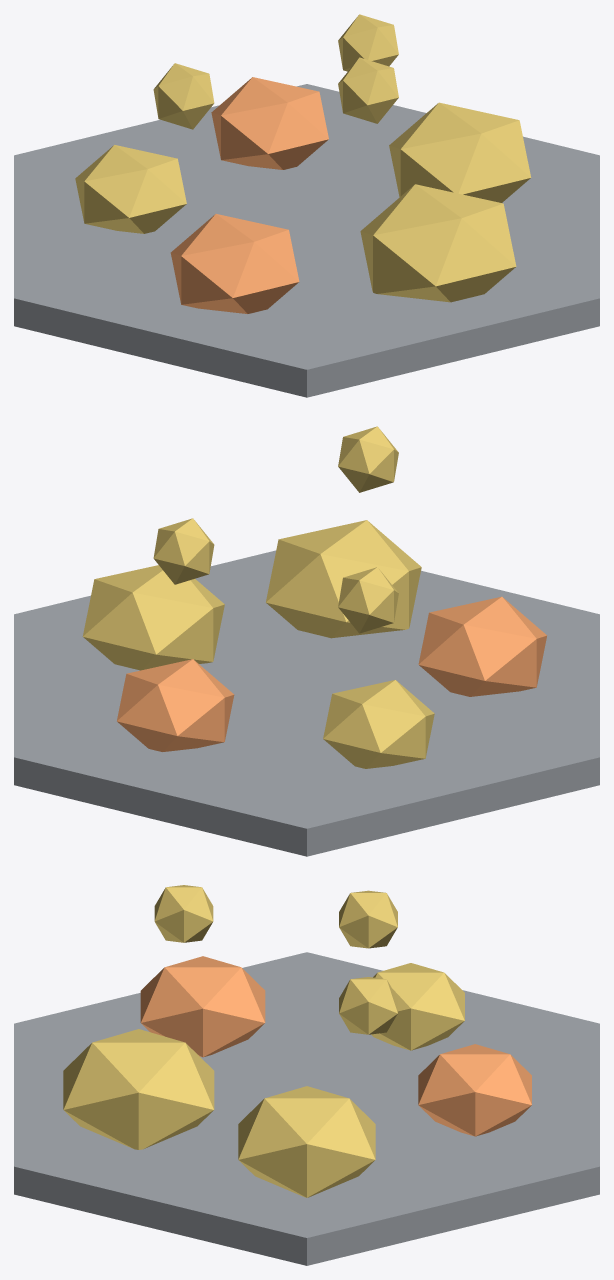
File: animprop_campfire_ember_06.glb
The picture shows the model from 3 angles, top to bottom: view 1: azimuth 30°, elevation 25°; view 2: azimuth 150°, elevation 25°; view 3: azimuth 270°, elevation 25°; orthographic projection.
Parts seen in each view (by area): view 1: animprop; view 2: animprop; view 3: animprop.
Boxes of the visible parts, x1,y1,x2,y2 form: animprop: (14, 14, 599, 397); animprop: (14, 426, 599, 856); animprop: (14, 885, 599, 1265).
Size of the model in its own units: 0.88 by 0.3383 by 0.7621.
